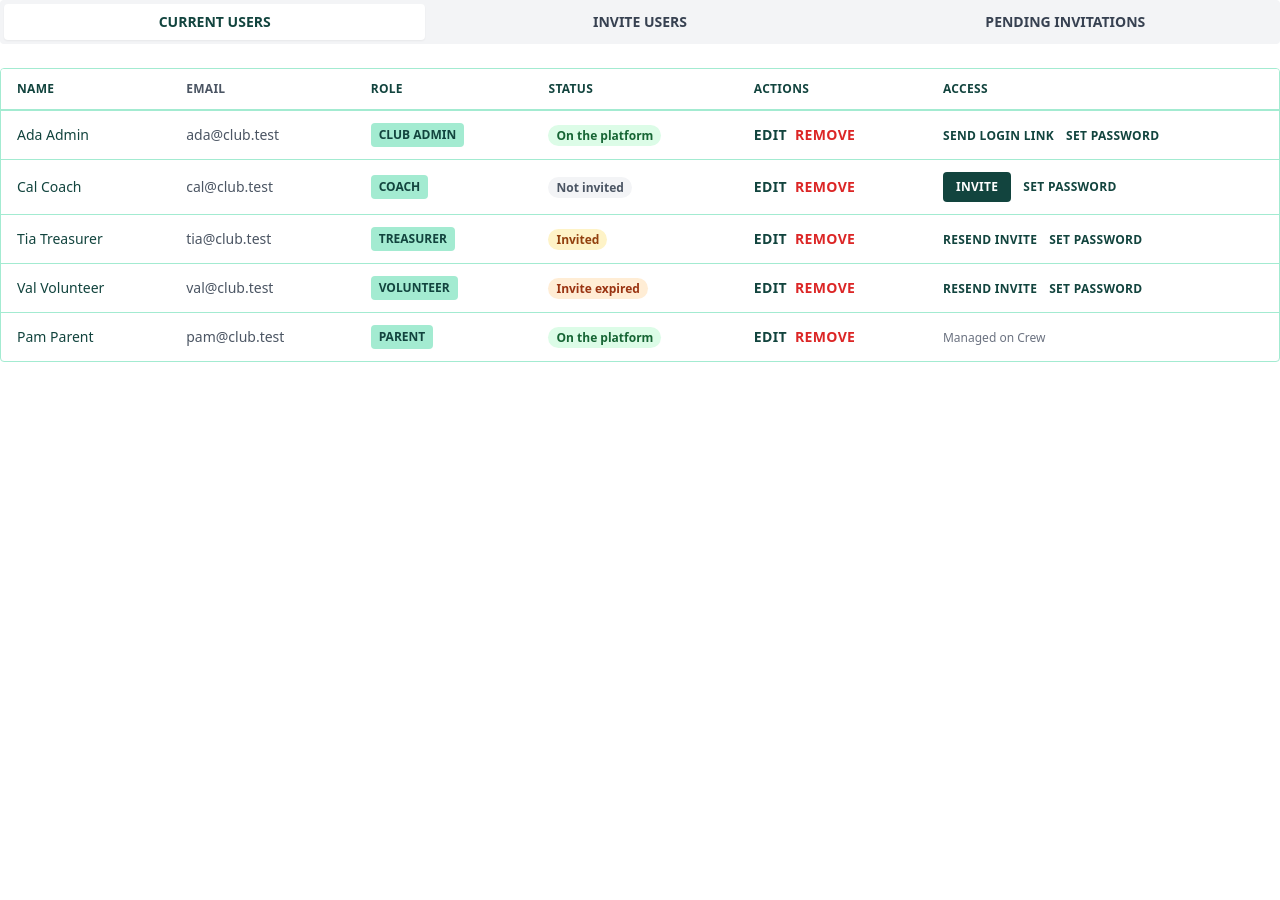
Test case: ClubUserManagement access controls › Set password opens the modal, which shows the password once after saving
Step 1. Click the button "Set password" in the row of "cal@club.test" → (1070, 187), box [1023,179,1117,195]
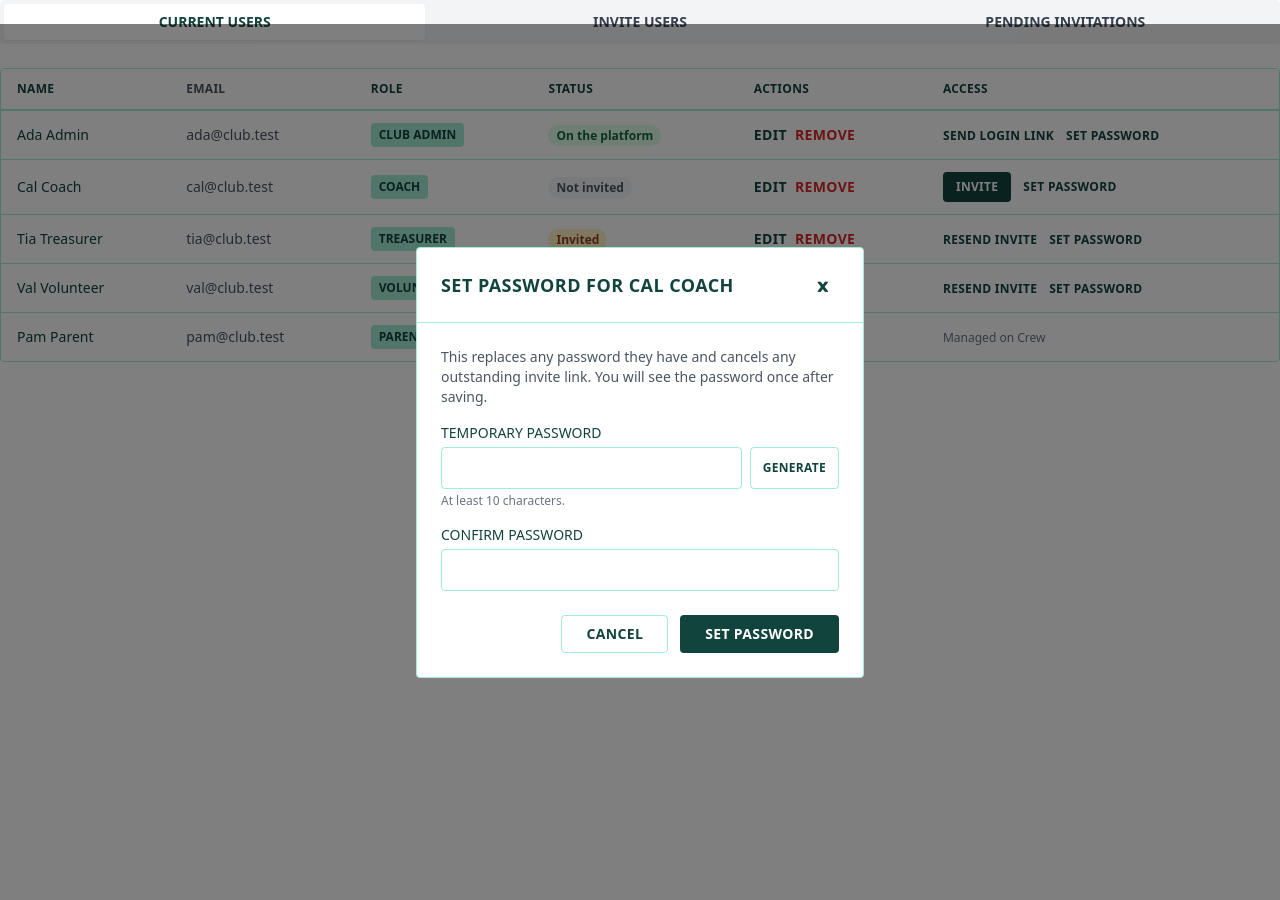
Step 2. Type "Temporary-9x" into the field labelled "Temporary password" → (591, 468), box [441,446,742,488]
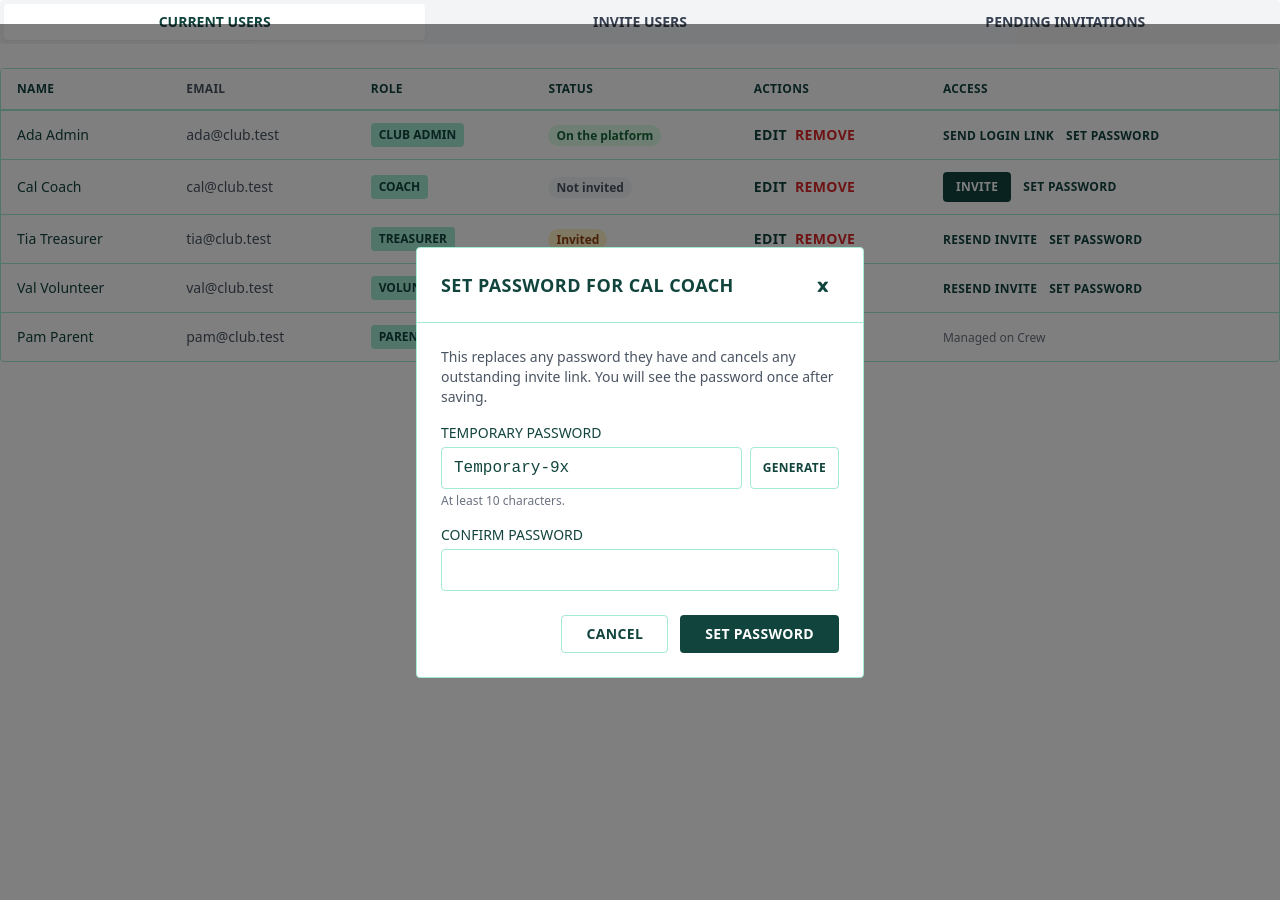
Step 3. Type "Temporary-9x" into the field labelled "Confirm password" → (640, 570), box [441,548,839,590]
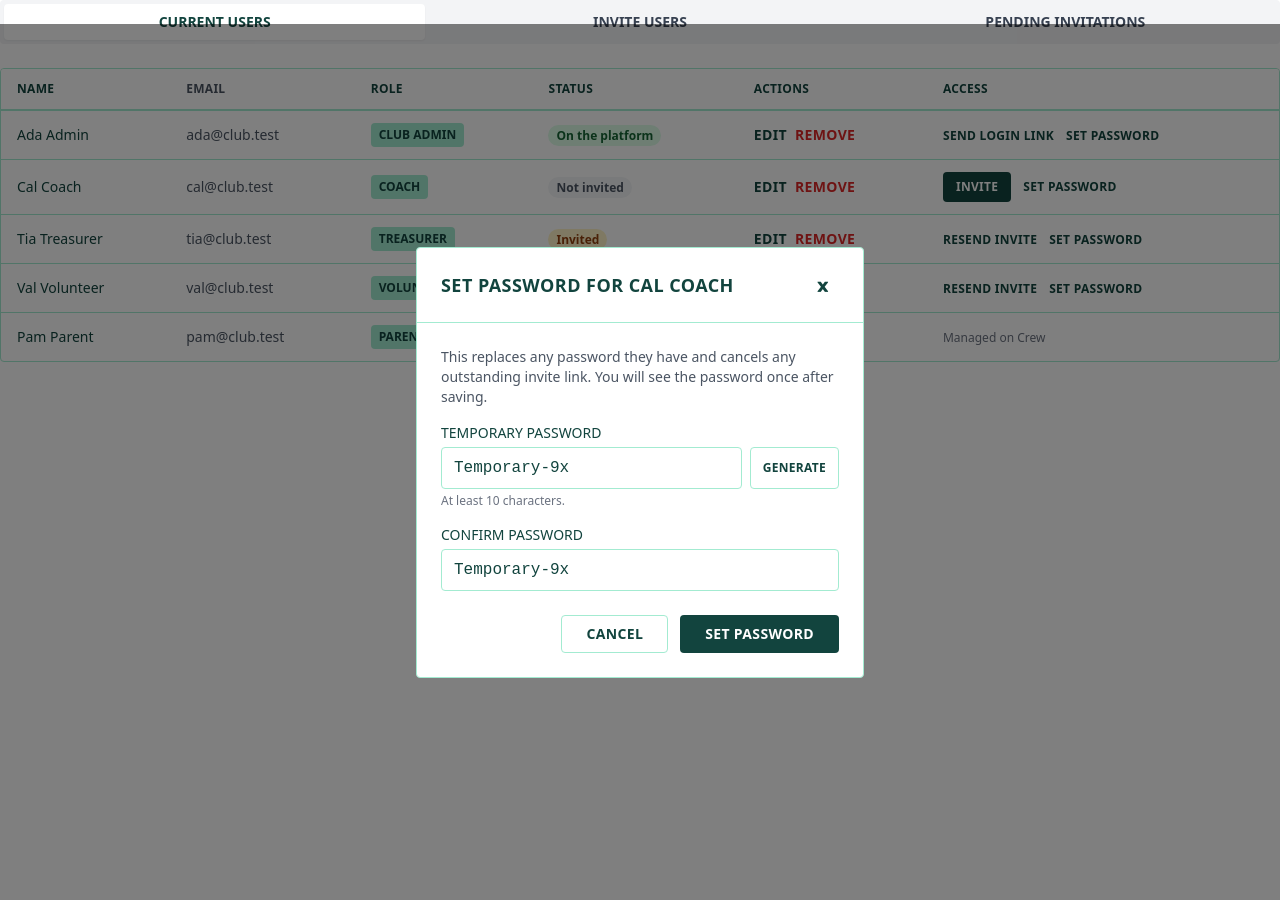
Step 4. Click the submit button → (760, 634), box [680,614,839,652]
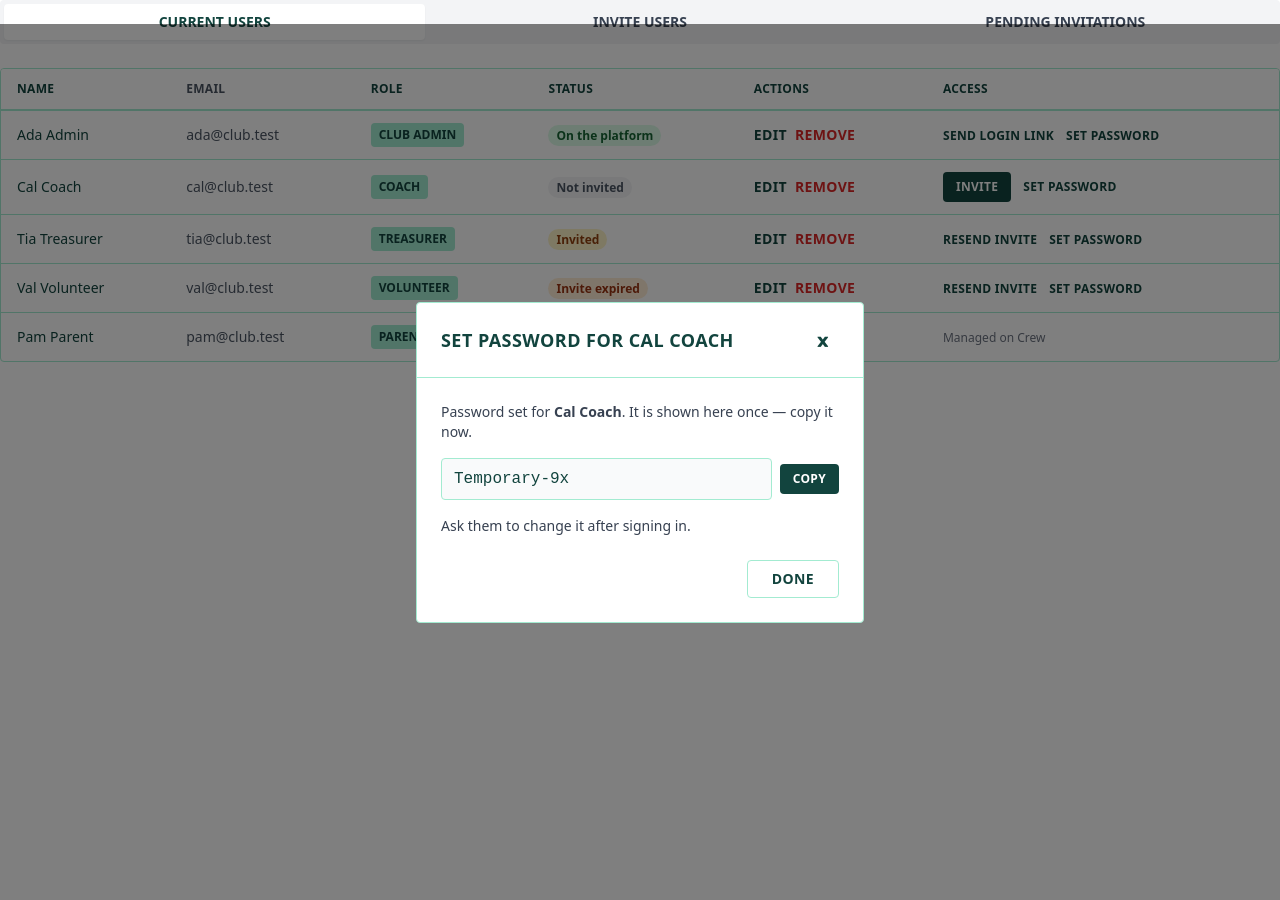
Result: the text "Temporary-9x" is shown at [441,458,772,500]
Result: the text "Ask them to change it after signing in." is shown at [441,516,691,534]
Result: the button "Copy" is shown at [780,464,839,494]
